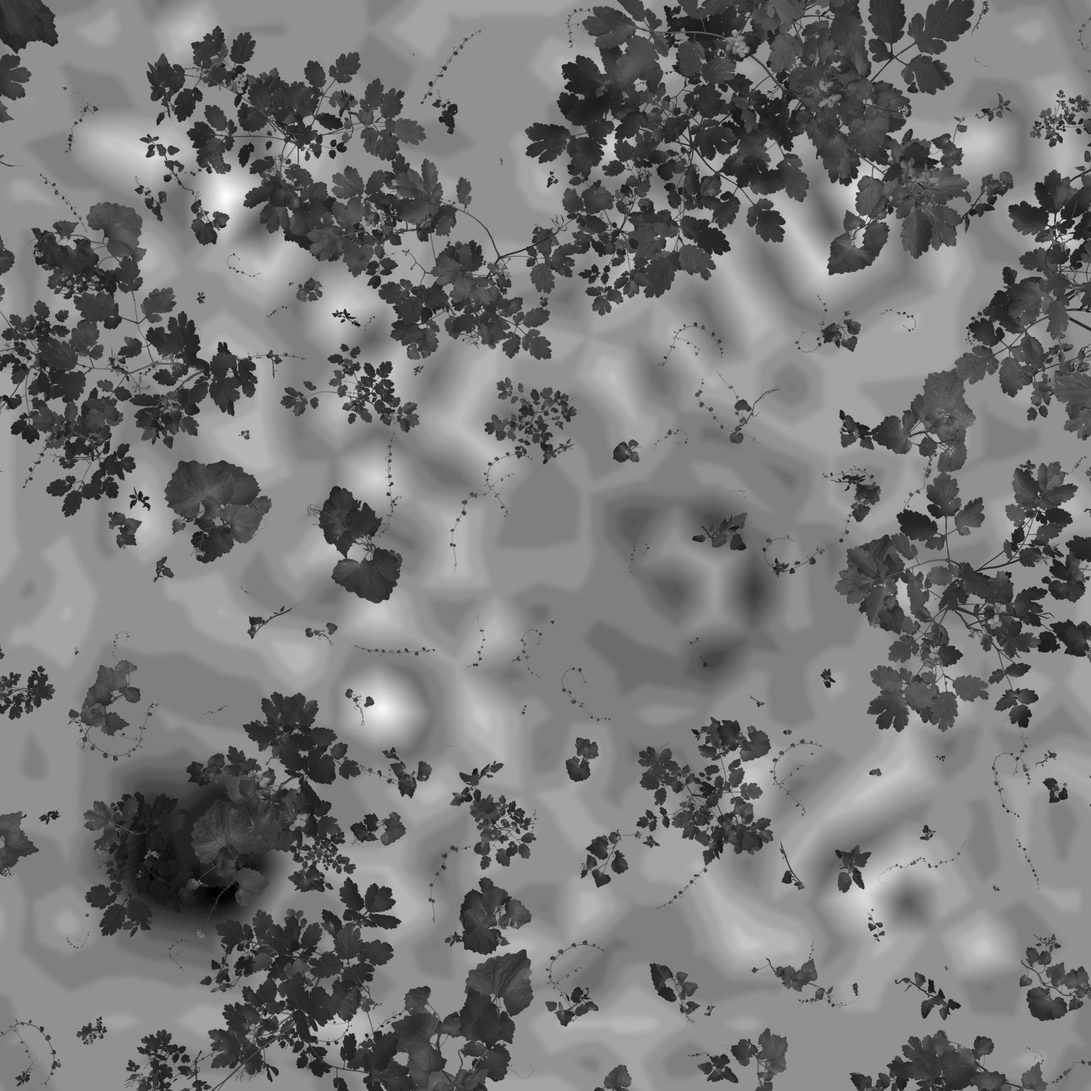landmine: (91, 771, 262, 936)
